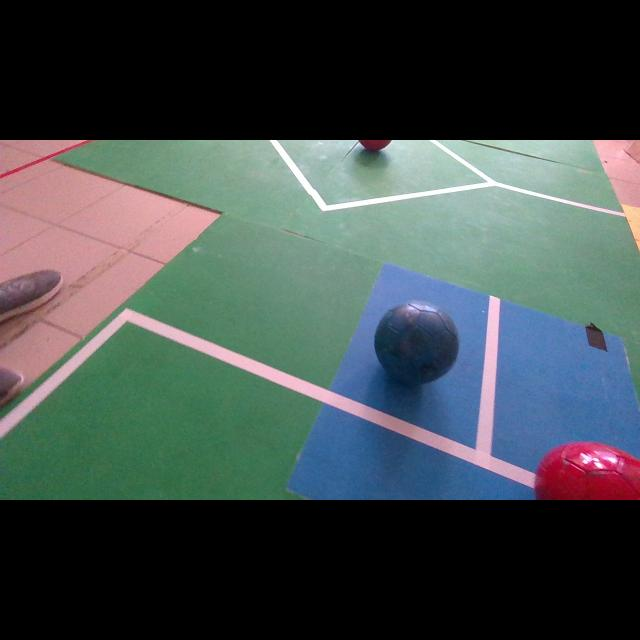B: (375, 300, 459, 384)
R: (535, 442, 640, 500)
